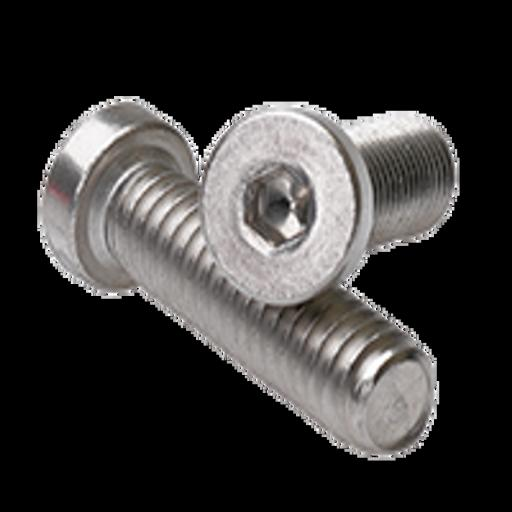Hex-Allen: (197, 100, 370, 313)
